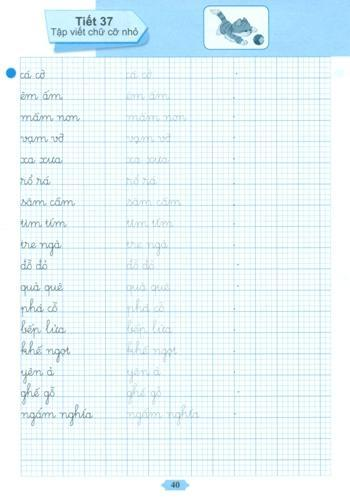text: (18, 403, 95, 428), (126, 403, 200, 429), (19, 339, 74, 364), (125, 339, 179, 364), (49, 26, 139, 39), (18, 318, 68, 341), (125, 318, 172, 339), (125, 382, 163, 406), (18, 382, 56, 406), (19, 298, 60, 320), (19, 110, 81, 124), (124, 239, 170, 257), (125, 281, 171, 299), (125, 111, 188, 124), (19, 238, 64, 256), (124, 365, 164, 385), (19, 281, 64, 298), (18, 195, 76, 208), (125, 298, 168, 314), (19, 366, 55, 385), (18, 216, 68, 229), (124, 196, 183, 207), (123, 218, 173, 230), (19, 88, 65, 101), (19, 132, 65, 145), (124, 154, 171, 166), (74, 14, 114, 28), (124, 133, 174, 144), (124, 91, 171, 102), (124, 257, 156, 272), (18, 155, 64, 165), (18, 173, 53, 186), (20, 257, 52, 271), (124, 175, 158, 186), (18, 68, 46, 80), (124, 71, 154, 81), (169, 480, 181, 489)
